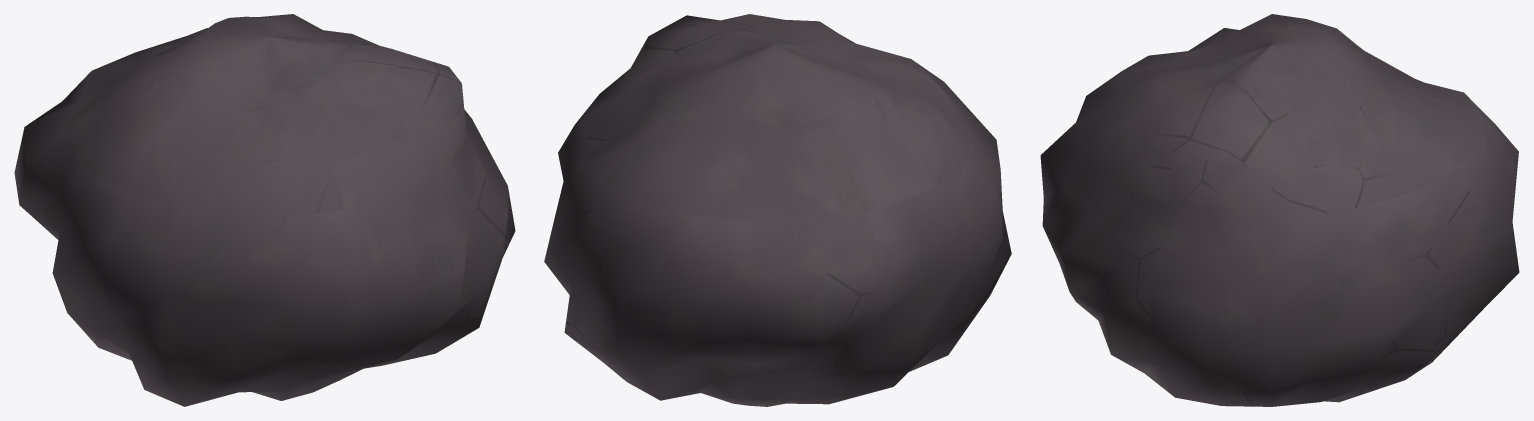
File: SM_Island_Rock_B.fbx
3 renders of one model, left to right at view 1: azimuth 30°, elevation 25°; view 2: azimuth 150°, elevation 25°; view 3: azimuth 270°, elevation 25°, orthographic. The views are drawn at different scales.
Parts seen in each view (by area): view 1: SM_Island_Rock_B; view 2: SM_Island_Rock_B; view 3: SM_Island_Rock_B.
Boxes of the visible parts, x1,y1,x2,y2 form: SM_Island_Rock_B: (14, 14, 515, 406); SM_Island_Rock_B: (544, 14, 1011, 406); SM_Island_Rock_B: (1040, 14, 1519, 406).
Size of the model in its own units: 222 by 178 by 234.
Materials: 1 (1 with a texture image).
